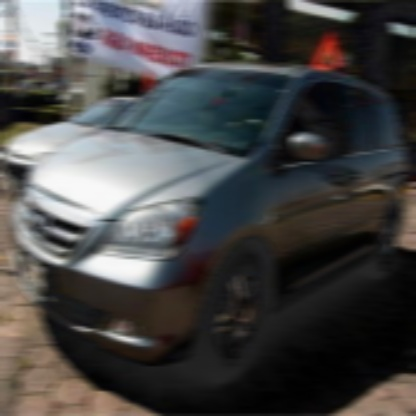Vehicle: (13, 68, 408, 381)
